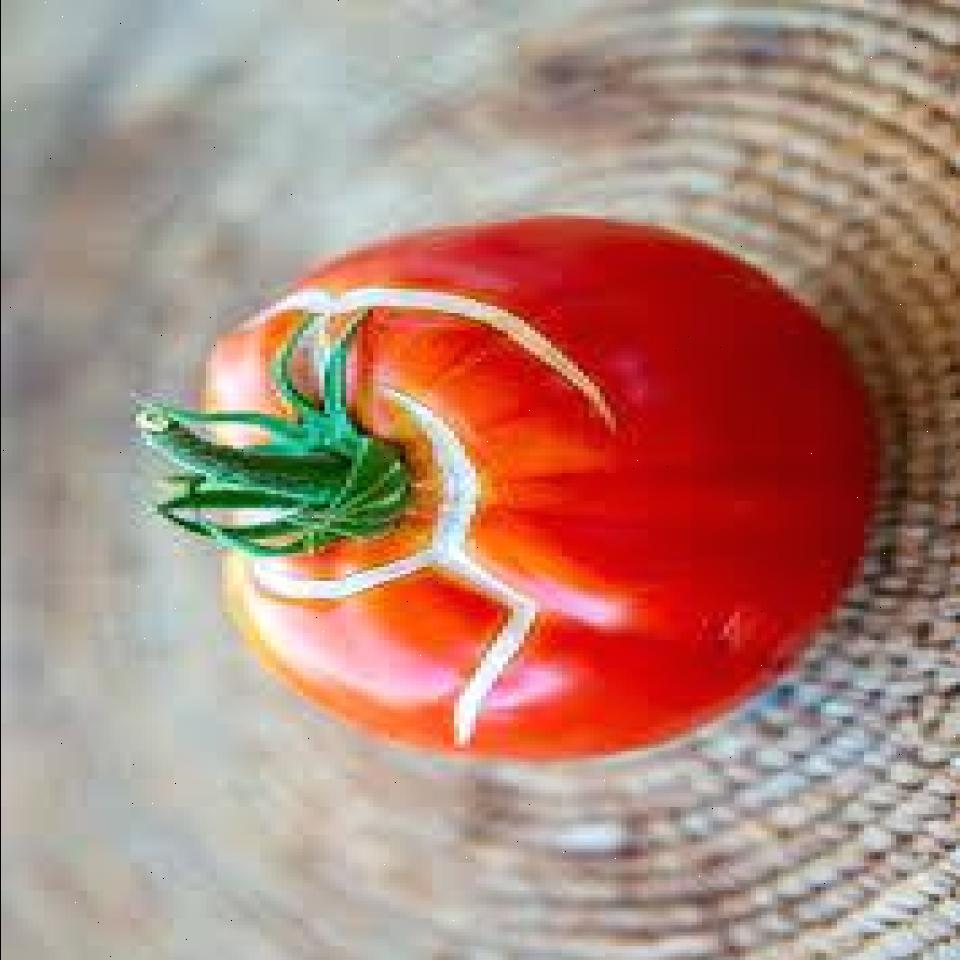Cracking: (212, 366, 546, 734), (218, 271, 614, 418)
